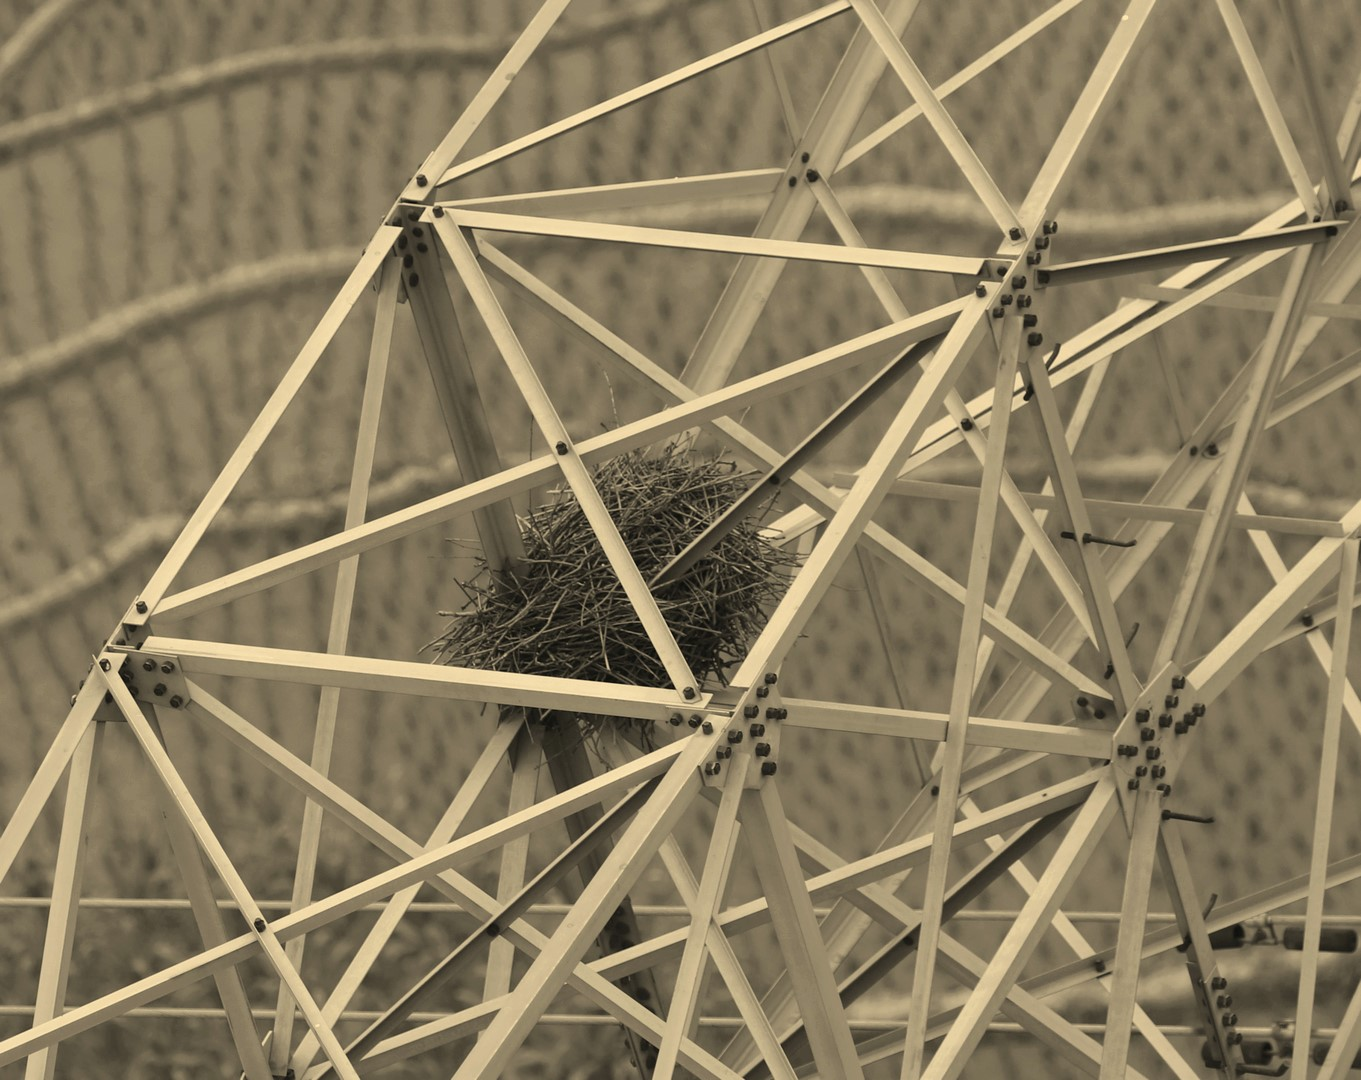niaowo: (434, 406, 790, 739)
